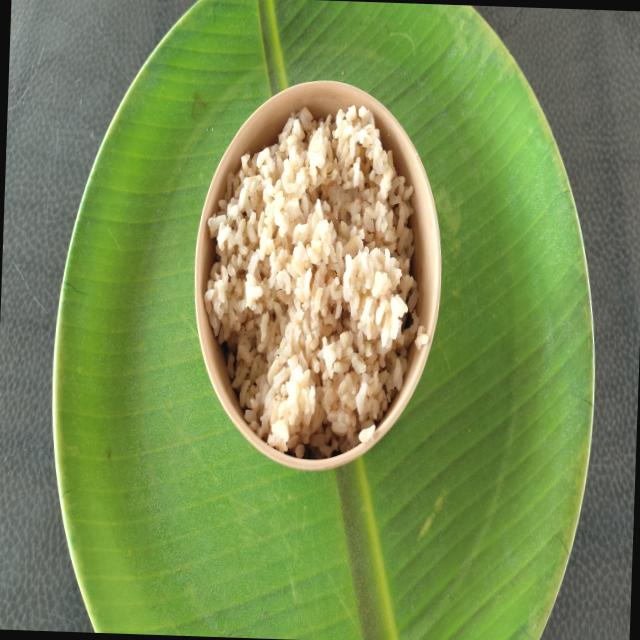brown-rice: (204, 105, 419, 459)
